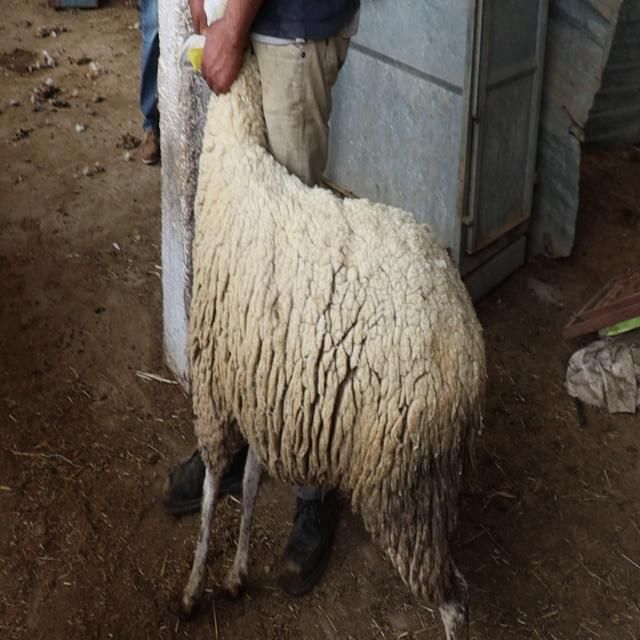Score_4: (182, 50, 487, 639)
